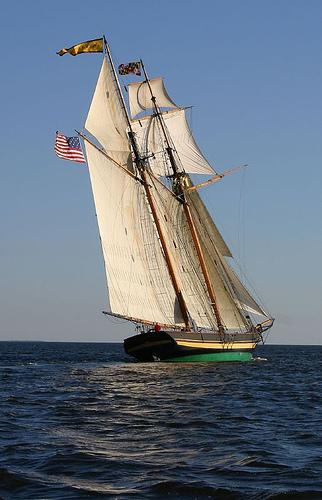Ship: (54, 34, 275, 364)
